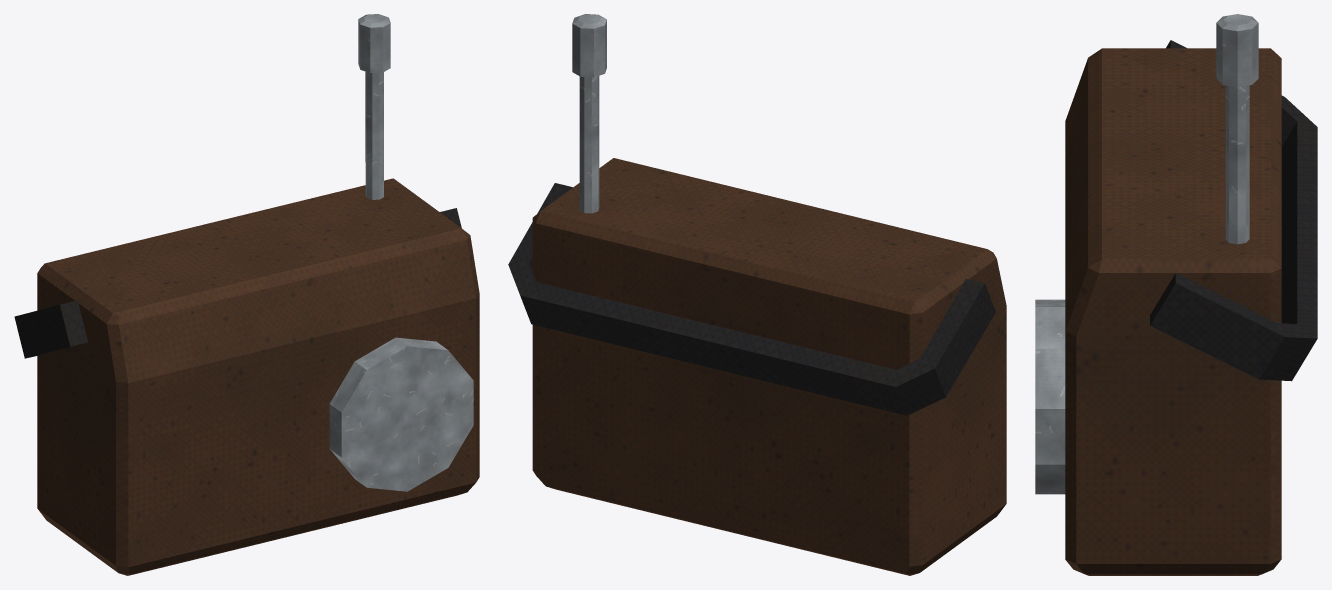
The model's file is Radio.fbx.
3 renders of one model, left to right at view 1: azimuth 30°, elevation 25°; view 2: azimuth 150°, elevation 25°; view 3: azimuth 270°, elevation 25°, orthographic. The views are drawn at different scales.
Visible parts, largest first — view 1: Radio.002, Radio.001, Radio, Radio.003; view 2: Radio.002, Radio.003, Radio; view 3: Radio.002, Radio.003, Radio, Radio.001.
Boxes of the visible parts, x1=… form: Radio.002: x1=37, y1=178, x2=479, y2=575; Radio.001: x1=329, y1=337, x2=473, y2=491; Radio: x1=358, y1=14, x2=390, y2=199; Radio.003: x1=14, y1=208, x2=461, y2=358; Radio.002: x1=532, y1=158, x2=1006, y2=575; Radio.003: x1=508, y1=183, x2=995, y2=415; Radio: x1=572, y1=14, x2=606, y2=213; Radio.002: x1=1065, y1=48, x2=1281, y2=575; Radio.003: x1=1150, y1=40, x2=1317, y2=381; Radio: x1=1216, y1=14, x2=1258, y2=244; Radio.001: x1=1035, y1=299, x2=1065, y2=494.
Bounding box in the file's own units: 0.4795 × 0.5038 × 0.2378.
3 materials, 3 textured.
